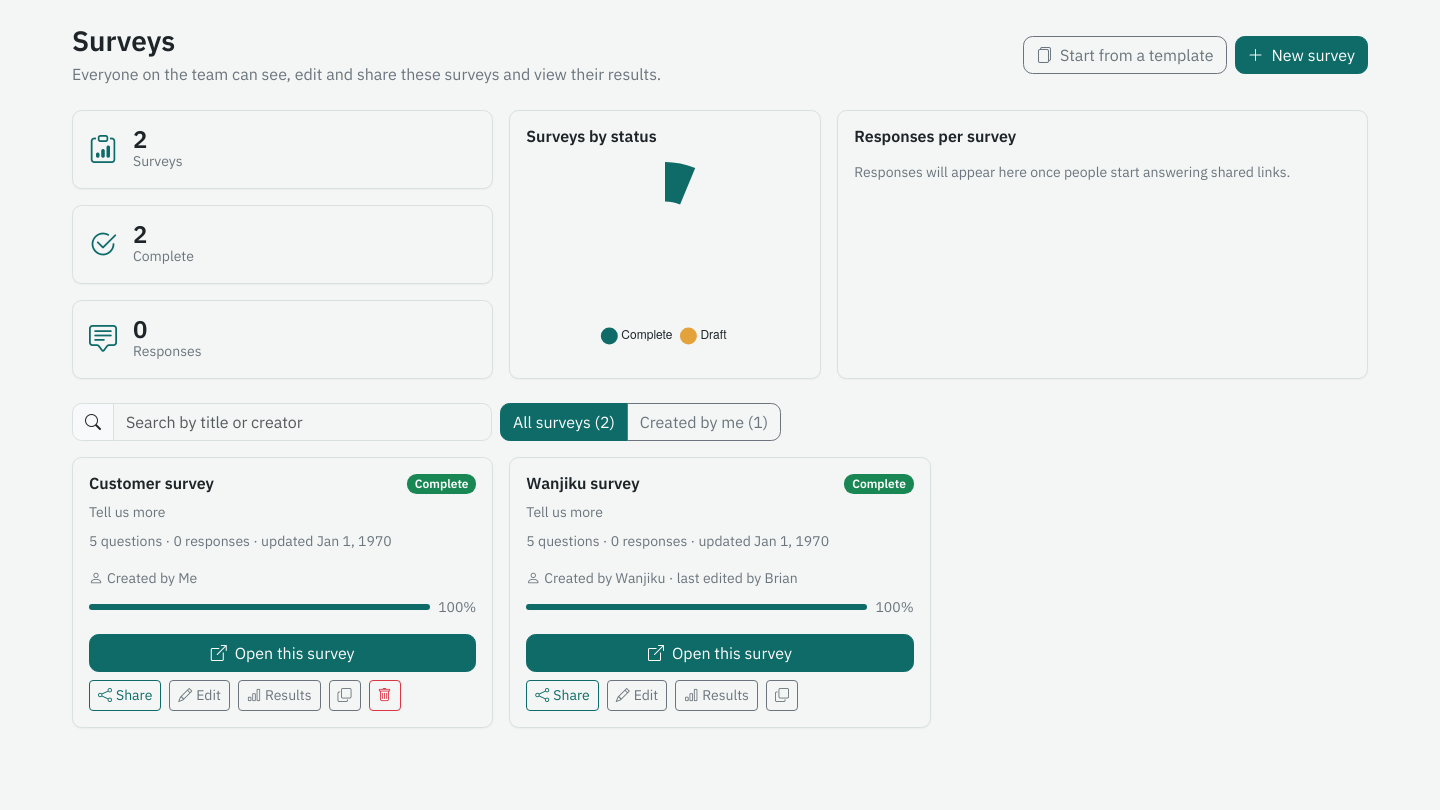
Test: Team collaboration › dashboard lists surveys created by teammates, says who made them, and only offers delete on your own
Expected: the heading "Wanjiku survey" is shown, [526, 474, 640, 493]
Expected: the heading "Customer survey" is shown, [89, 474, 214, 493]
// filter: created by me
Click the button "Created by me (1)" at (704, 422), box [627, 403, 781, 441]
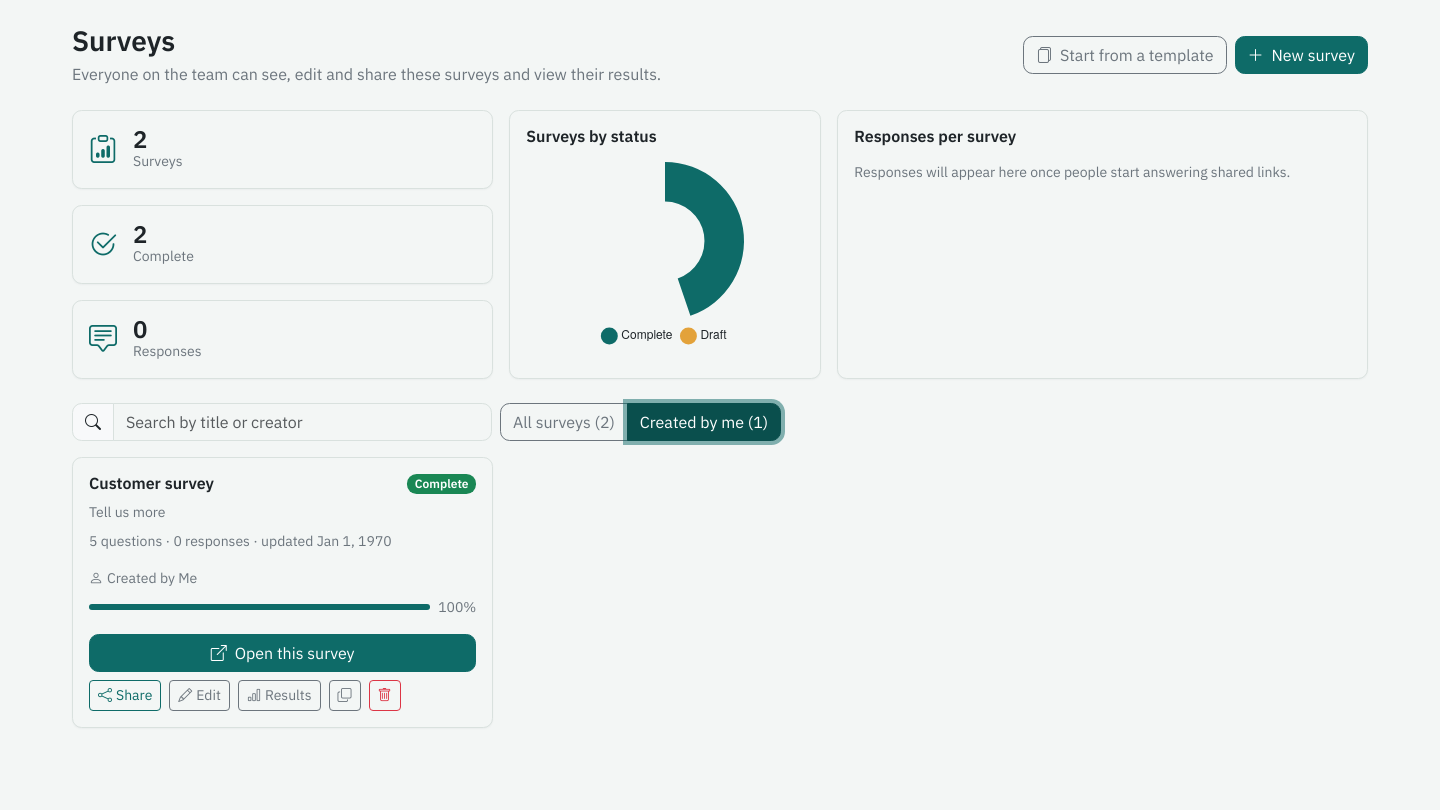
Expected: the heading "Customer survey" is shown, [89, 474, 214, 493]
Expected: the heading "Wanjiku survey" is gone
Click the button "All surveys (2)" at (564, 422), box [500, 403, 628, 441]
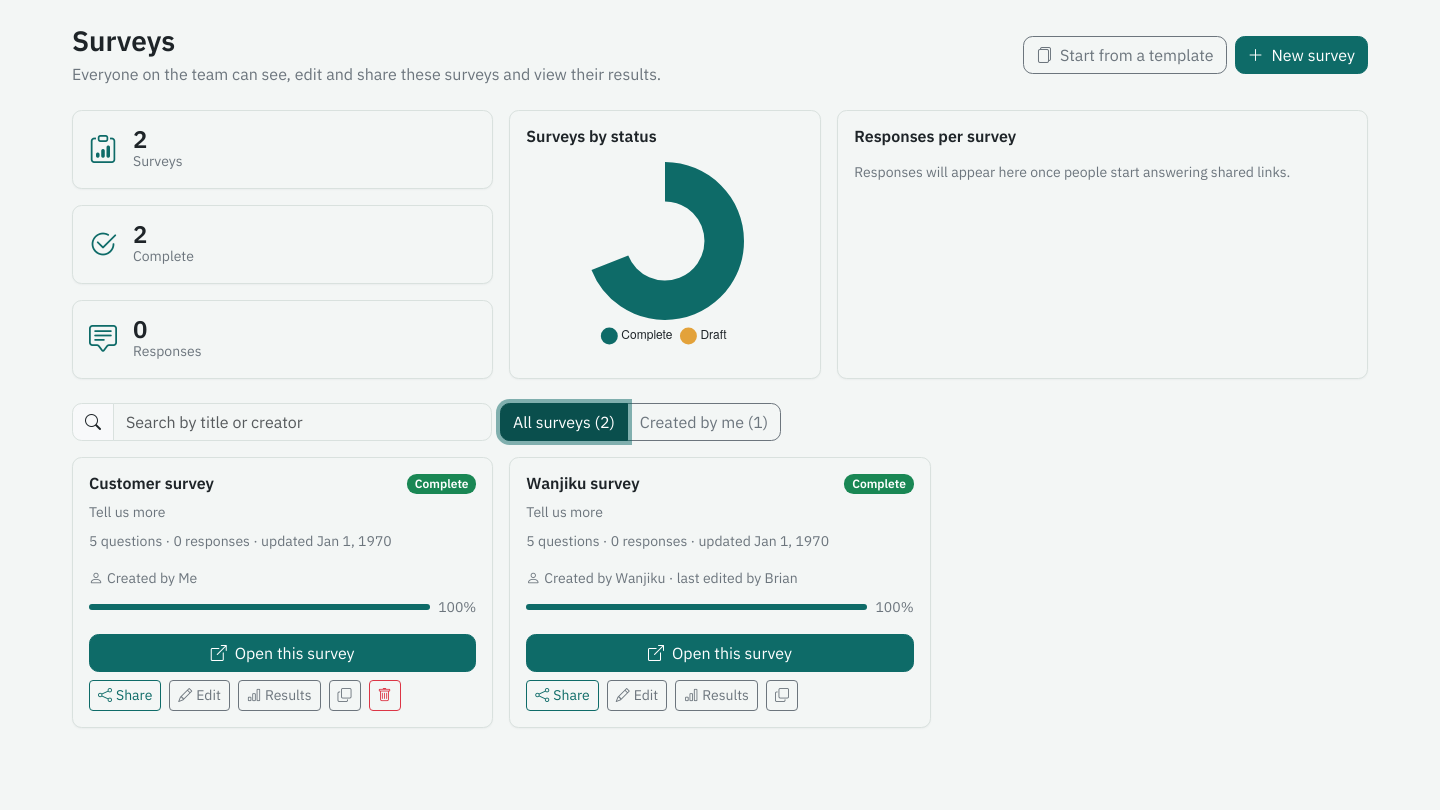
Expected: the heading "Wanjiku survey" is shown, [526, 474, 640, 493]
